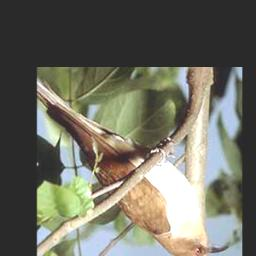Cuckoo: (38, 80, 231, 256)
